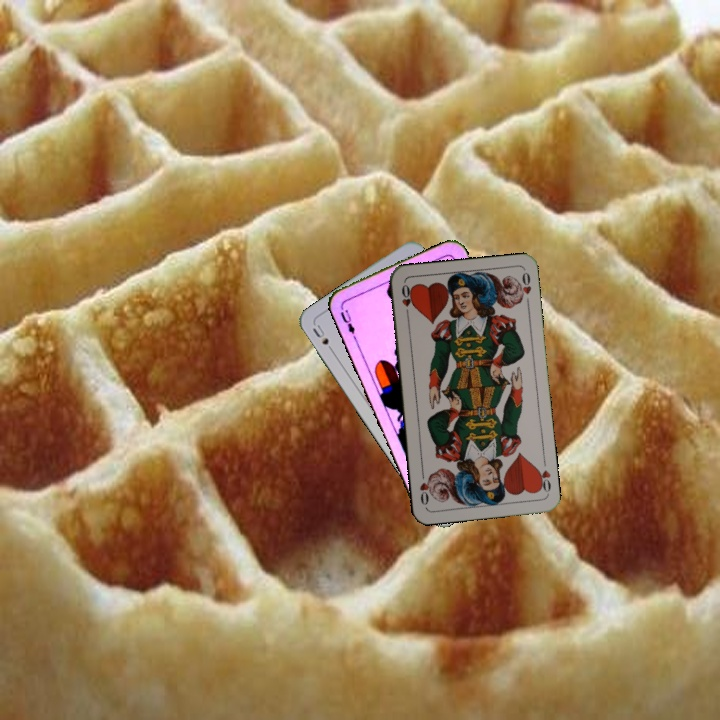EU: (336, 301, 358, 340)
HO: (397, 280, 415, 320), (533, 464, 553, 496)
SU: (308, 320, 338, 357)
